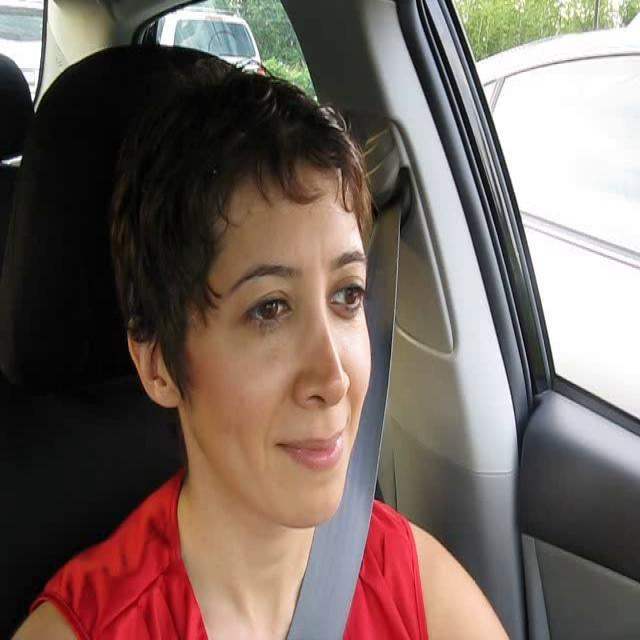close: (274, 425, 346, 472)
